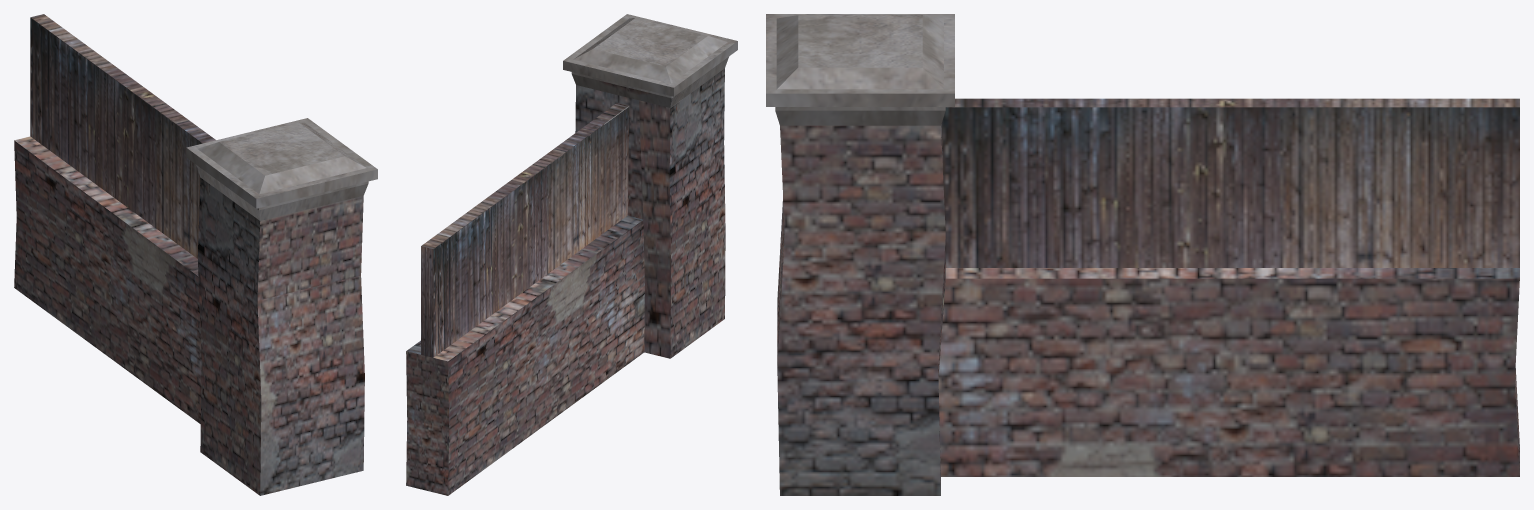
File: low_brick_wall.glb
3 renders of one model, left to right at view 1: azimuth 30°, elevation 25°; view 2: azimuth 150°, elevation 25°; view 3: azimuth 270°, elevation 25°, orthographic. The views are drawn at different scales.
Parts seen in each view (by area): view 1: Cube; view 2: Cube; view 3: Cube.
Part boxes in pixels (x1,y1,x2,y2): Cube: (14, 14, 377, 495); Cube: (406, 14, 737, 495); Cube: (766, 14, 1519, 495).
Size of the model in its own units: 1.03 by 2.53 by 4.1.
1 material, 1 textured.
